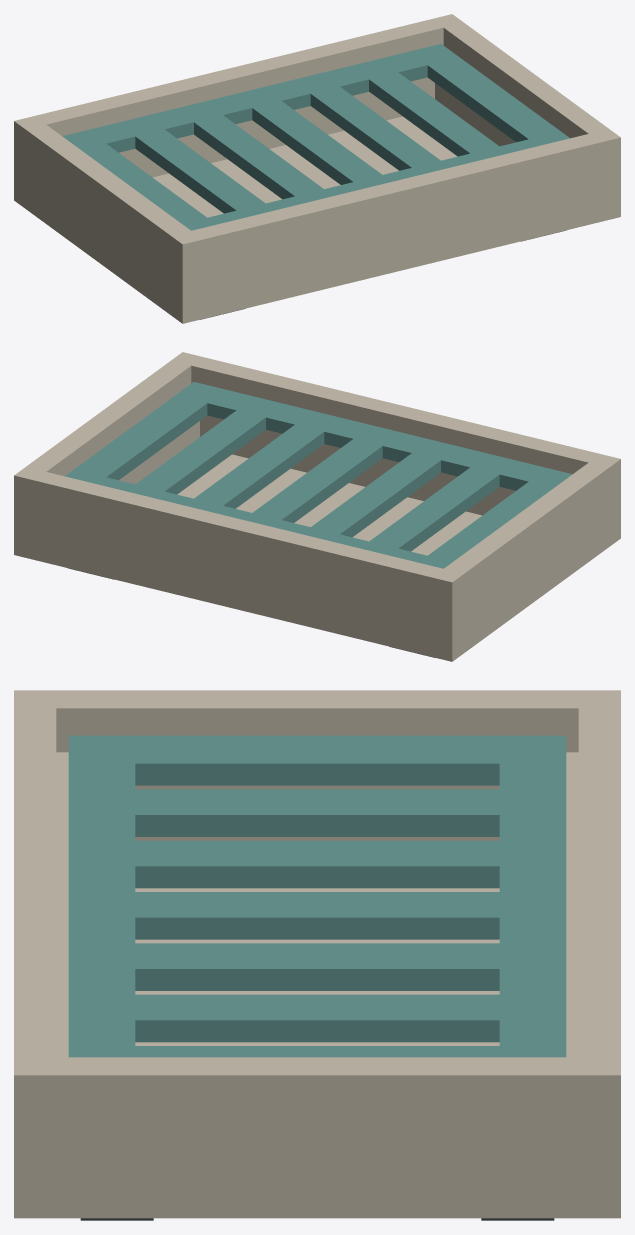
3 renders of one model, top to bottom at view 1: azimuth 30°, elevation 25°; view 2: azimuth 150°, elevation 25°; view 3: azimuth 270°, elevation 25°, orthographic. The views are drawn at different scales.
Visible parts, largest first — view 1: WholeSteppedCatchBasinAndContinuousInsetLedge, WholeSixThroughSlotDeckAndOuterFrame; view 2: WholeSteppedCatchBasinAndContinuousInsetLedge, WholeSixThroughSlotDeckAndOuterFrame; view 3: WholeSteppedCatchBasinAndContinuousInsetLedge, WholeSixThroughSlotDeckAndOuterFrame.
Part boxes in pixels (x1=…): WholeSteppedCatchBasinAndContinuousInsetLedge: x1=14, y1=14, x2=620, y2=323; WholeSixThroughSlotDeckAndOuterFrame: x1=62, y1=44, x2=569, y2=230; WholeSteppedCatchBasinAndContinuousInsetLedge: x1=14, y1=352, x2=620, y2=661; WholeSixThroughSlotDeckAndOuterFrame: x1=65, y1=382, x2=572, y2=568; WholeSteppedCatchBasinAndContinuousInsetLedge: x1=14, y1=690, x2=620, y2=1218; WholeSixThroughSlotDeckAndOuterFrame: x1=68, y1=735, x2=566, y2=1057.
Bounding box in the file's own units: 0.15 × 0.032 × 0.1.
